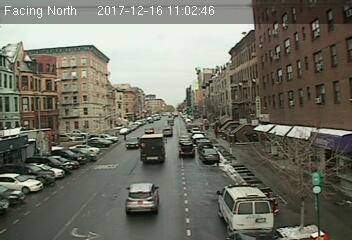car: (125, 181, 161, 214), (198, 149, 218, 161), (179, 142, 194, 156), (126, 136, 140, 149)
police: (215, 181, 277, 237)
ups: (139, 134, 167, 165)
